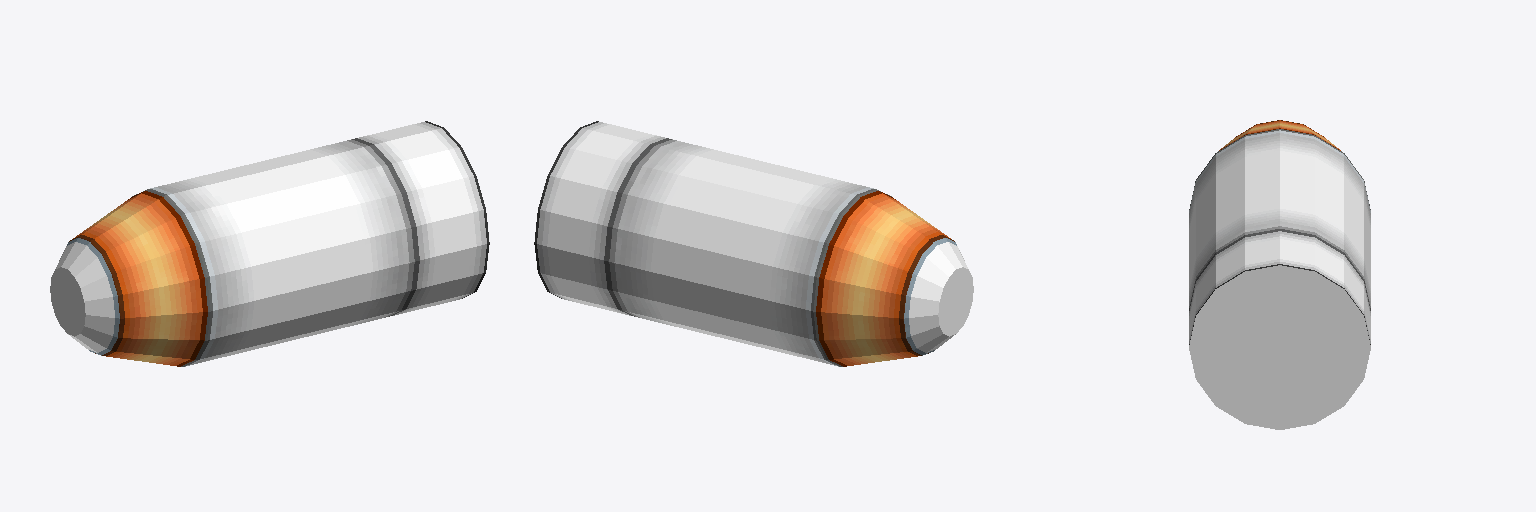
The picture shows the model from 3 angles: view 1: azimuth 30°, elevation 25°; view 2: azimuth 150°, elevation 25°; view 3: azimuth 270°, elevation 25°; orthographic projection.
Visible parts, largest first — view 1: Cylinder.009_Cylinder.003; view 2: Cylinder.009_Cylinder.003; view 3: Cylinder.009_Cylinder.003.
Boxes of the visible parts, <box> form: Cylinder.009_Cylinder.003: <box>50,121,489,366</box>; Cylinder.009_Cylinder.003: <box>534,121,973,366</box>; Cylinder.009_Cylinder.003: <box>1189,120,1370,429</box>.
Size of the model in its own units: 1.08 by 0.4524 by 0.4524.
Materials: 1 (1 with a texture image).